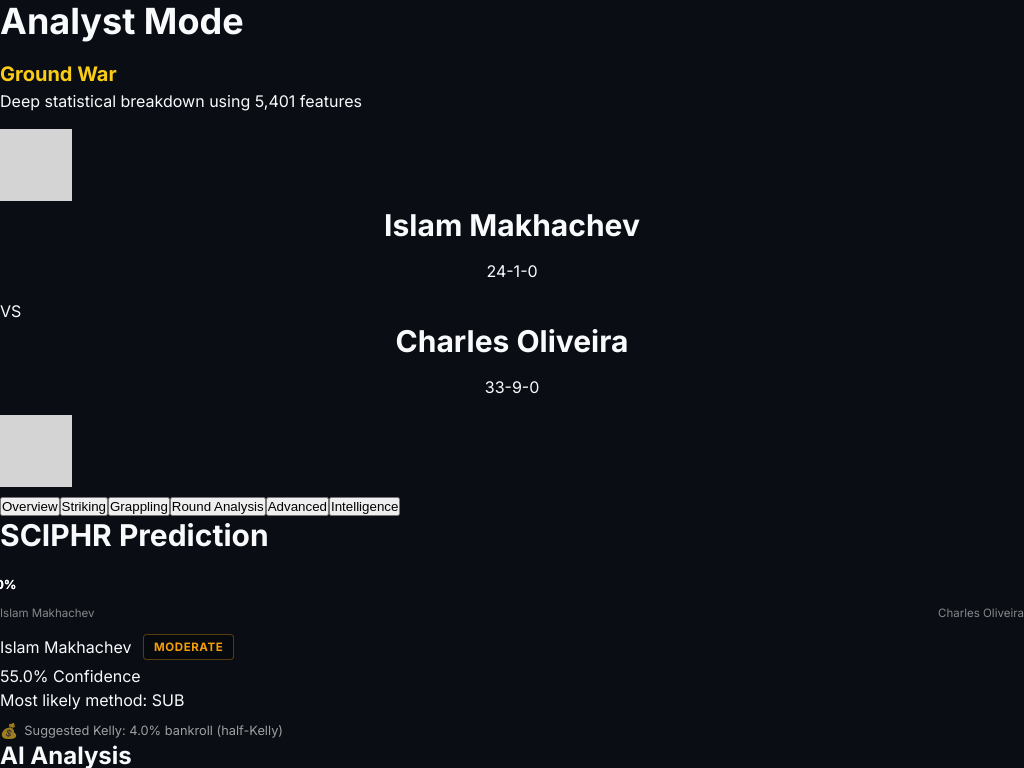
Test: AnalystMode — Intelligence tab › renders badges
Click the button "Intelligence": (365, 507) [329, 497, 400, 516]
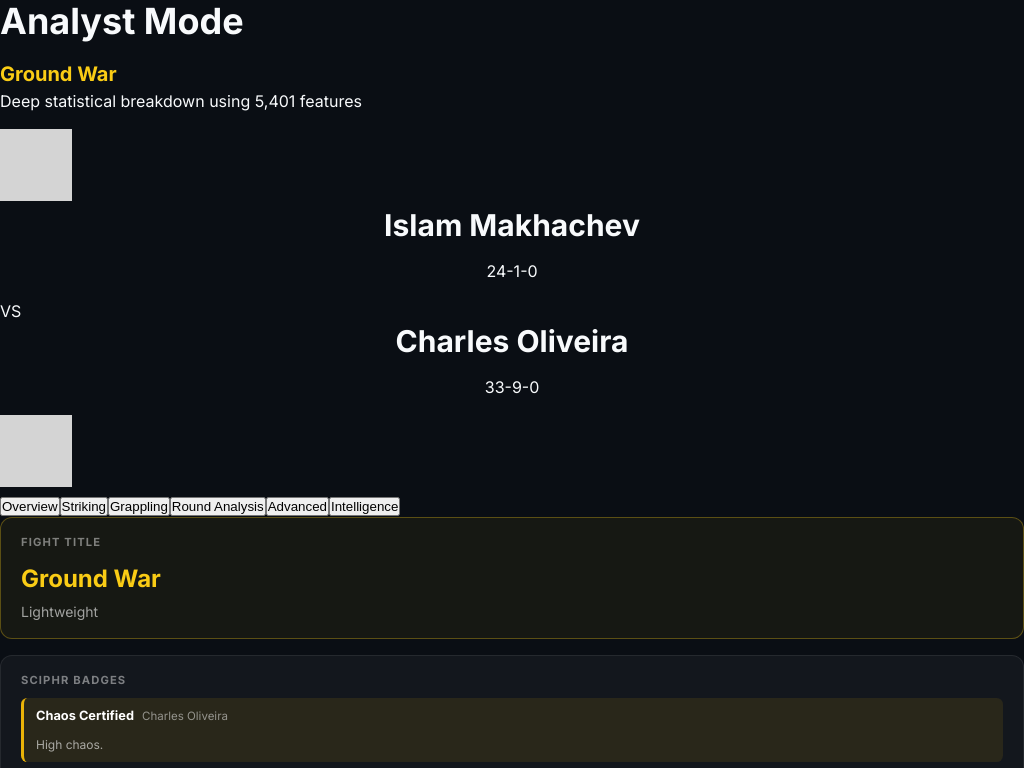
Expected: the text "Chaos Certified" is shown, [36, 706, 134, 725]
